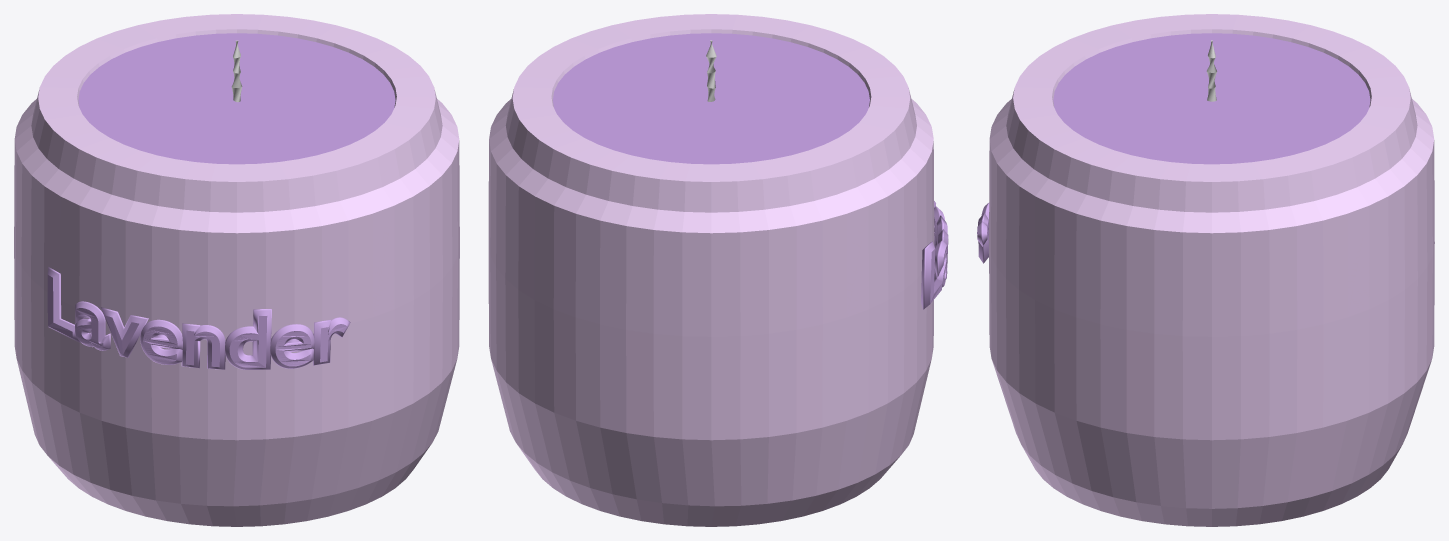
The model's file is Lavender.fbx.
3 renders of one model, left to right at view 1: azimuth 30°, elevation 25°; view 2: azimuth 150°, elevation 25°; view 3: azimuth 270°, elevation 25°, orthographic.
Parts seen in each view (by area): view 1: Torus, Cylinder, Lavender_Text; view 2: Torus, Cylinder, Lavender_Text; view 3: Torus, Cylinder, Lavender_Text.
Boxes of the visible parts, x1,y1,x2,y2 form: Torus: (14, 14, 459, 526); Cylinder: (78, 33, 395, 164); Lavender_Text: (47, 267, 350, 369); Torus: (488, 14, 934, 526); Cylinder: (553, 33, 869, 164); Lavender_Text: (921, 201, 948, 309); Torus: (989, 14, 1434, 526); Cylinder: (1053, 33, 1370, 164); Lavender_Text: (977, 202, 989, 263).
Size of the model in its own units: 136 by 134 by 136.
